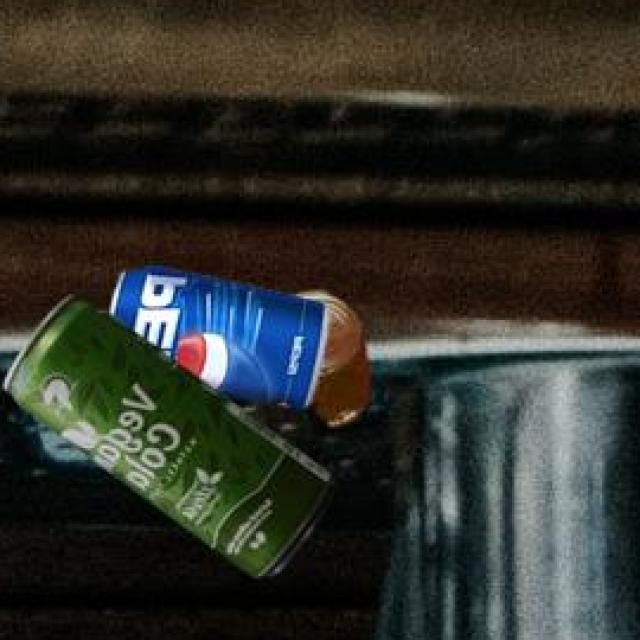logam: (1, 297, 331, 580), (108, 271, 326, 414), (293, 295, 366, 430)
